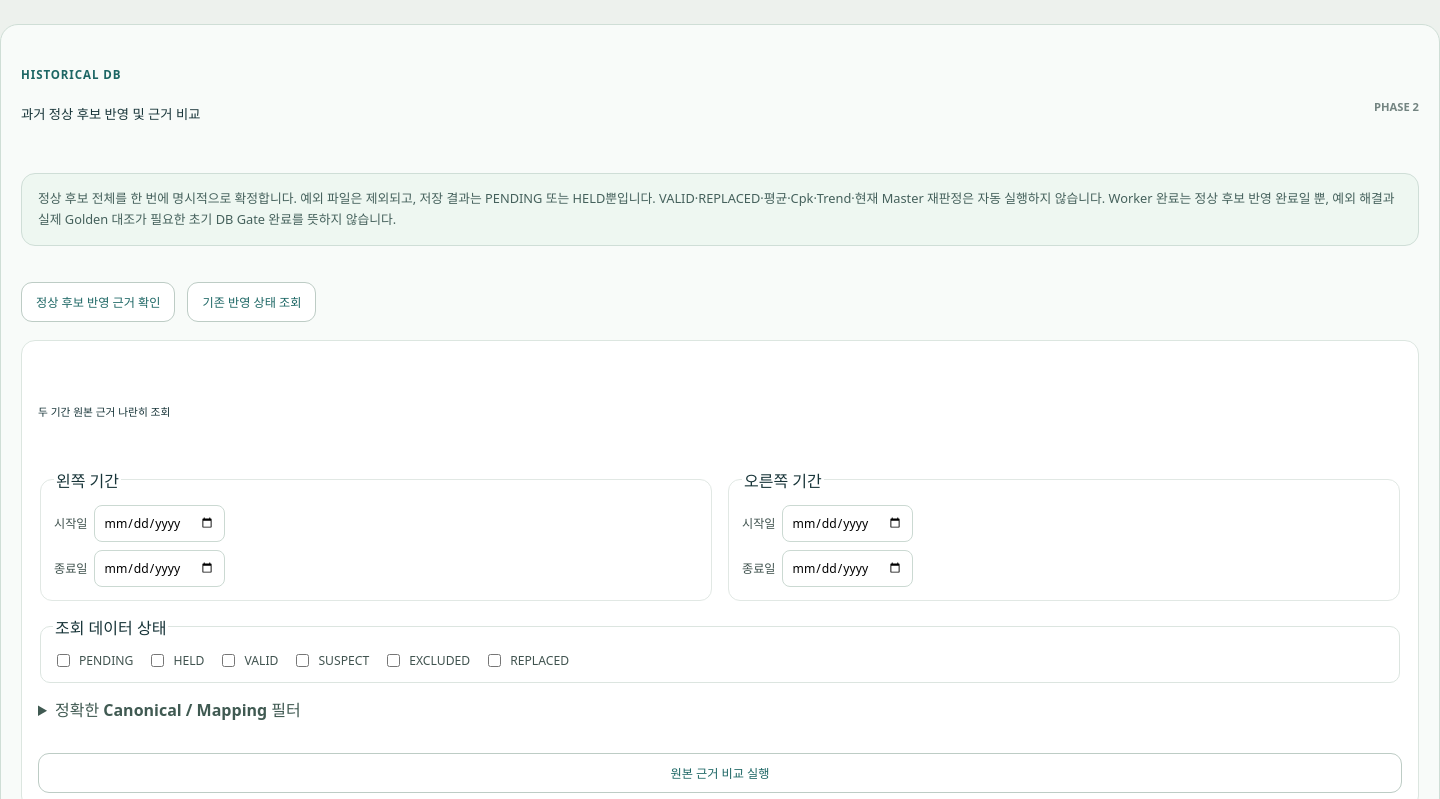
it: HistoricalWorkspacePanel › DQ-P2-BULKFINALUI-003 BLOCKED와 초기 Gate 미완료를 표시하고 VALID·REPLACED 명령을 노출하지 않는다
Click the button "기존 반영 상태 조회" at (252,302), box [188,282,316,322]
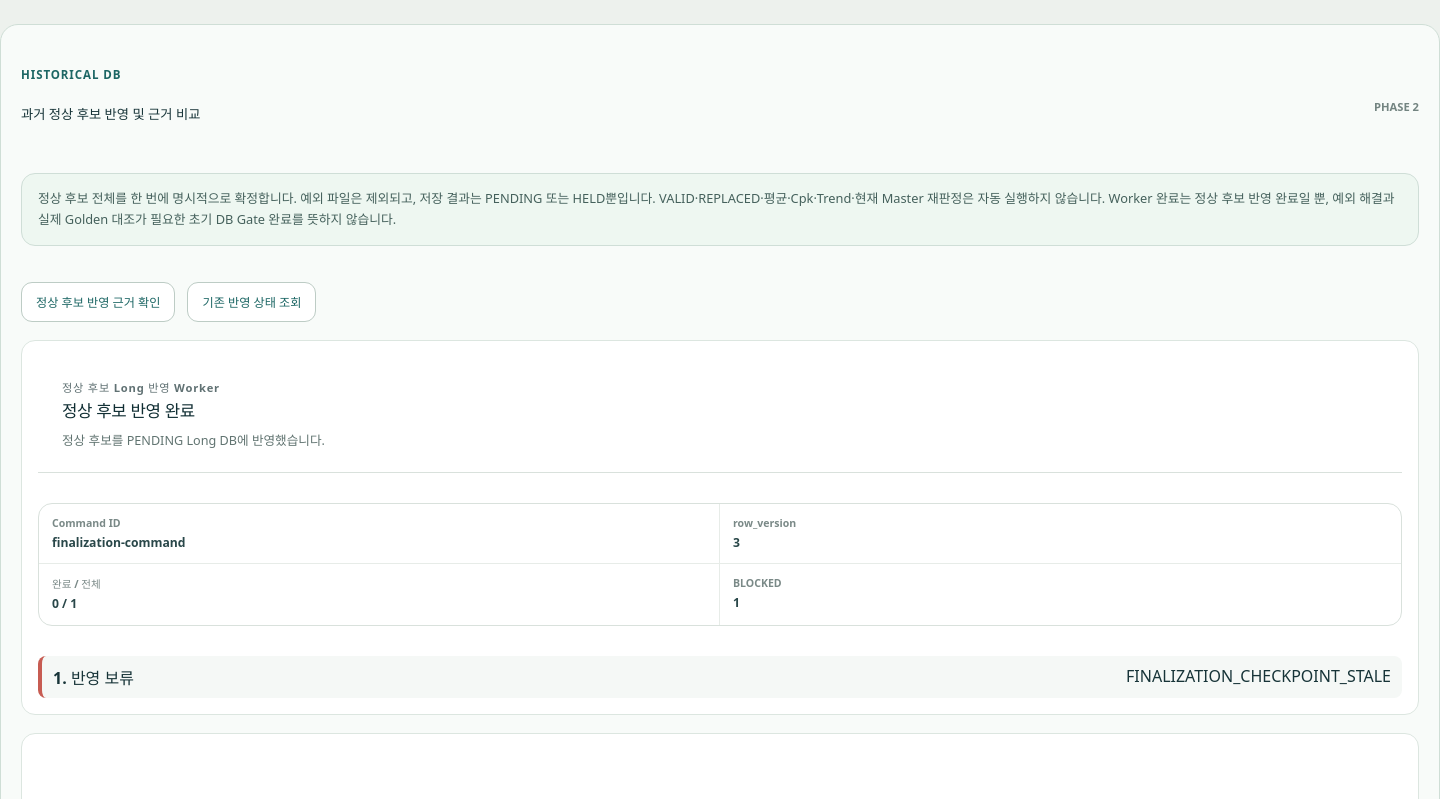
Result: the text "FINALIZATION_CHECKPOINT_STALE" is shown at [1126,665,1391,689]
